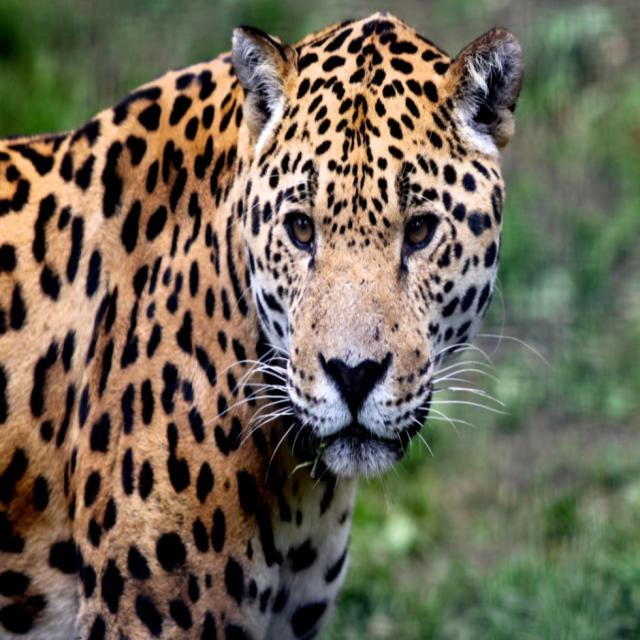Jaguar: (78, 16, 525, 632)
